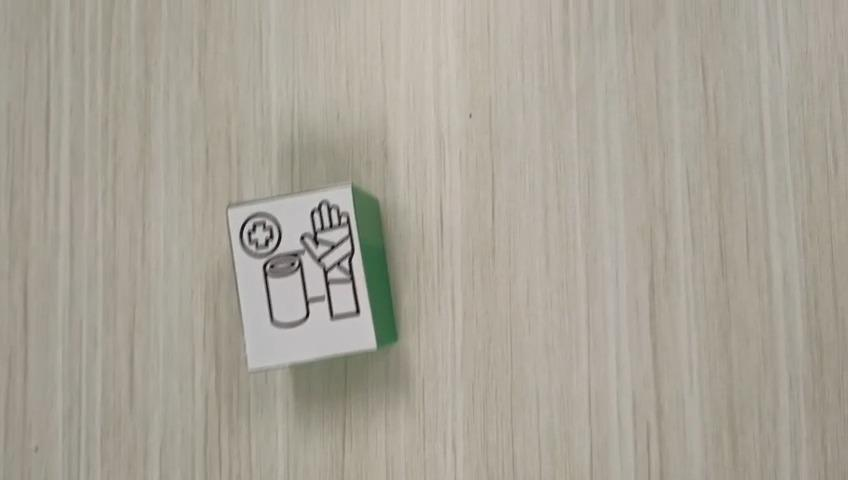Bandages: (225, 180, 398, 372)
